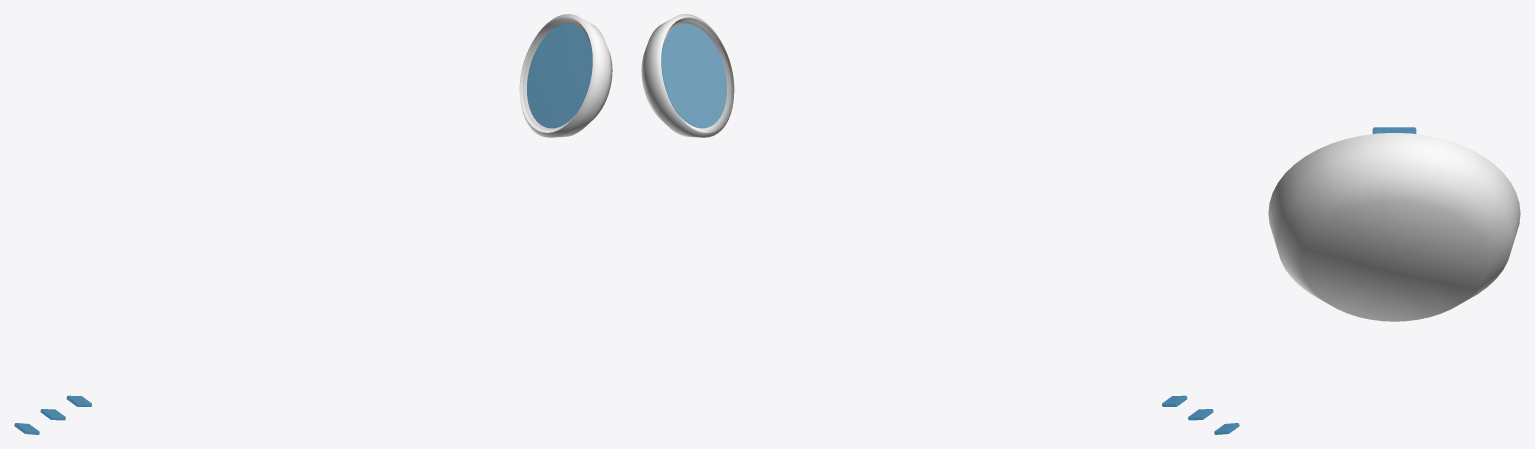
The model's file is bike_cruiser__instruments.glb.
3 renders of one model, left to right at view 1: azimuth 30°, elevation 25°; view 2: azimuth 150°, elevation 25°; view 3: azimuth 270°, elevation 25°, orthographic. The views are drawn at different scales.
Parts seen in each view (by area): view 1: electrical__instruments__glass, electrical__instruments__screen, electrical__instruments, electrical__instruments__tell_tales; view 2: electrical__instruments__glass, electrical__instruments__screen, electrical__instruments, electrical__instruments__tell_tales; view 3: electrical__instruments, electrical__instruments__tell_tales.
Boxes of the visible parts, x1,y1,x2,y2 form: electrical__instruments__glass: [523, 20, 591, 129]; electrical__instruments__screen: [527, 23, 592, 128]; electrical__instruments: [519, 14, 612, 137]; electrical__instruments__tell_tales: [14, 395, 91, 434]; electrical__instruments__glass: [662, 20, 731, 129]; electrical__instruments__screen: [661, 23, 726, 128]; electrical__instruments: [641, 14, 734, 137]; electrical__instruments__tell_tales: [1162, 395, 1239, 434]; electrical__instruments: [1268, 132, 1520, 321]; electrical__instruments__tell_tales: [1372, 127, 1416, 133].
Size of the model in its own units: 48.98 by 22.46 by 9.2.
